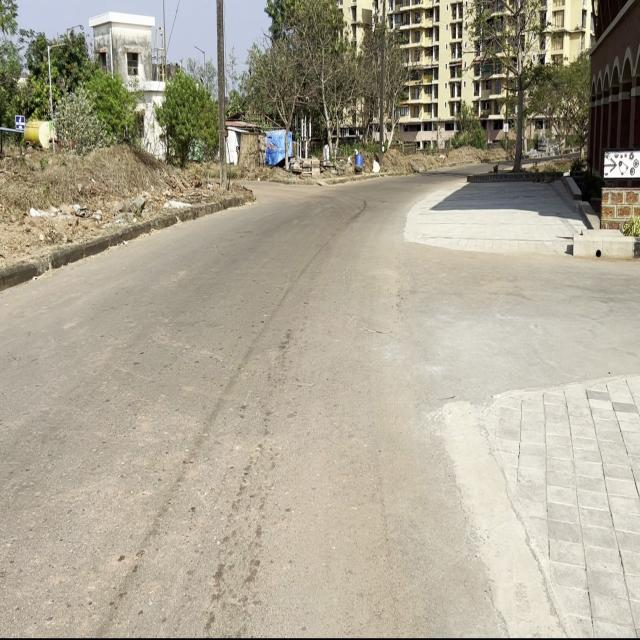Road: (1, 184, 497, 638)
